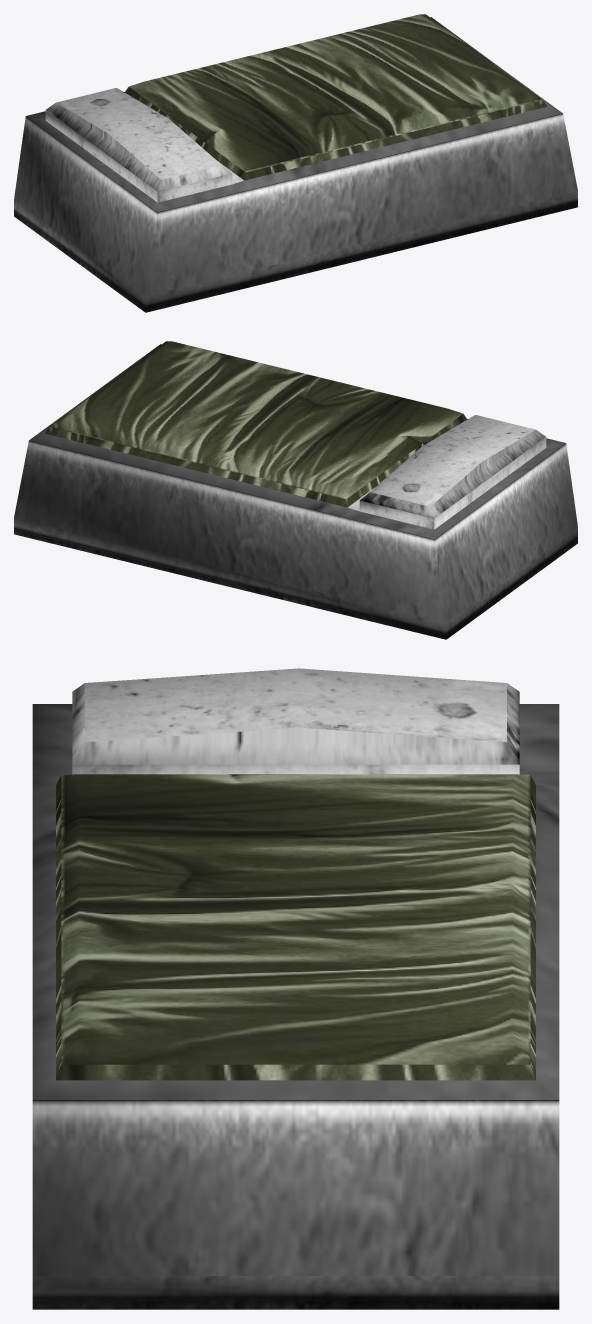
File: Bed.fbx
The picture shows the model from 3 angles, top to bottom: view 1: azimuth 30°, elevation 25°; view 2: azimuth 150°, elevation 25°; view 3: azimuth 270°, elevation 25°; orthographic projection. The views are drawn at different scales.
Parts seen in each view (by area): view 1: Cube; view 2: Cube; view 3: Cube.
Boxes of the visible parts, box(x1,y1,x2,y2) form: Cube: box(14, 14, 577, 312); Cube: box(14, 341, 577, 639); Cube: box(32, 668, 559, 1309).
Bounding box in the file's own units: 851 × 233 × 449.
Materials: 3 (3 with a texture image).
